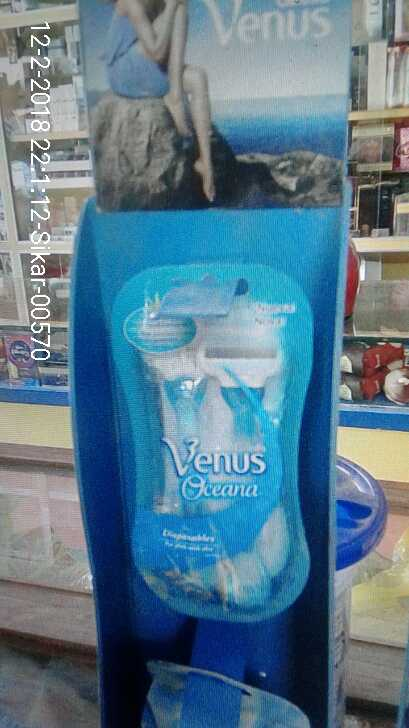venus: (104, 265, 311, 626)
